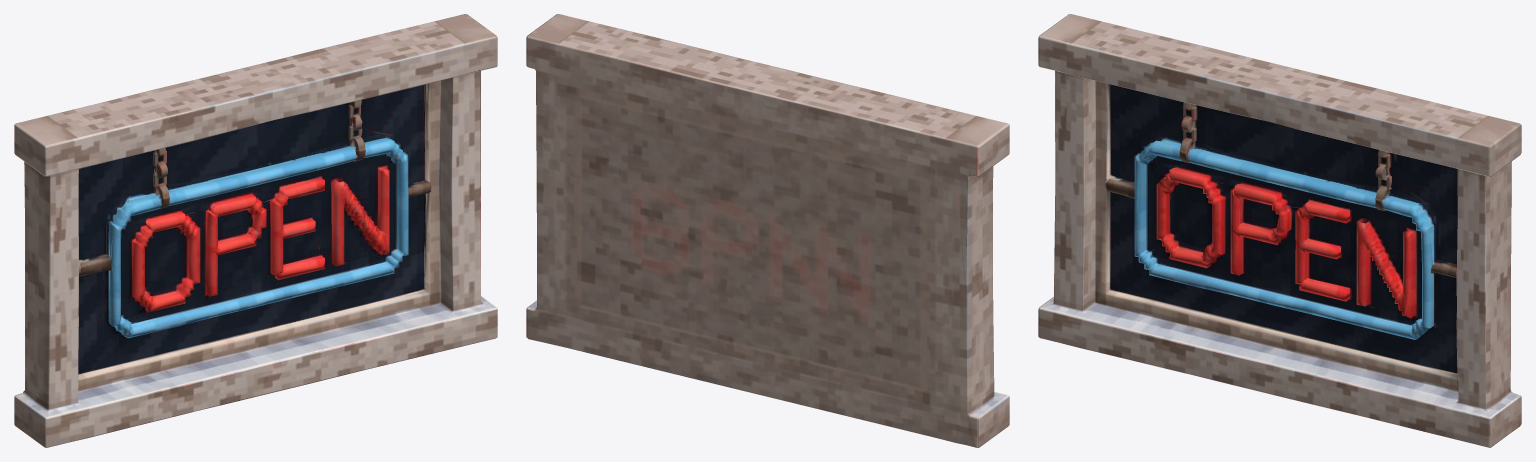
The model's file is HK_open_sign.glb.
The picture shows the model from 3 angles, left to right: view 1: azimuth 30°, elevation 25°; view 2: azimuth 150°, elevation 25°; view 3: azimuth 330°, elevation 25°; orthographic projection.
Size of the model in its own units: 0.9497 by 0.6074 by 0.1162.
Materials: 1 (1 with a texture image).
